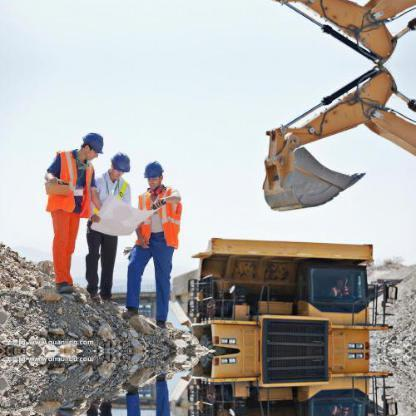helmet: (76, 129, 108, 157), (108, 149, 135, 175), (141, 160, 166, 182)
